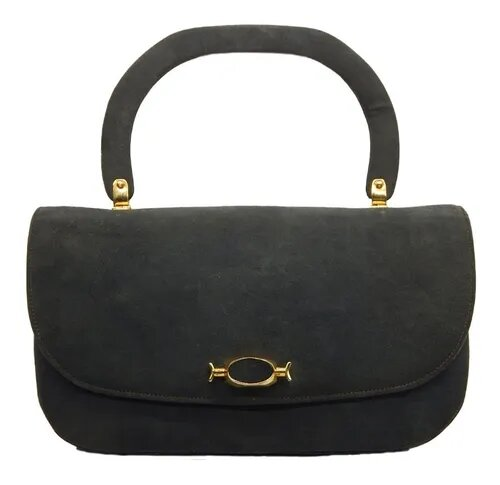cartera: (20, 5, 481, 469)
gamuza: (19, 199, 481, 463)
